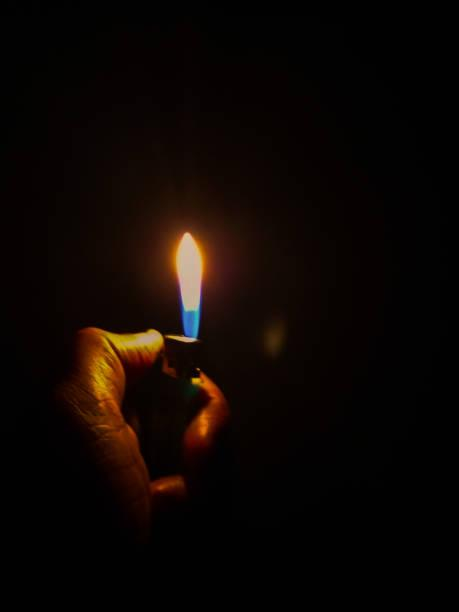Fire: (167, 225, 210, 339)
